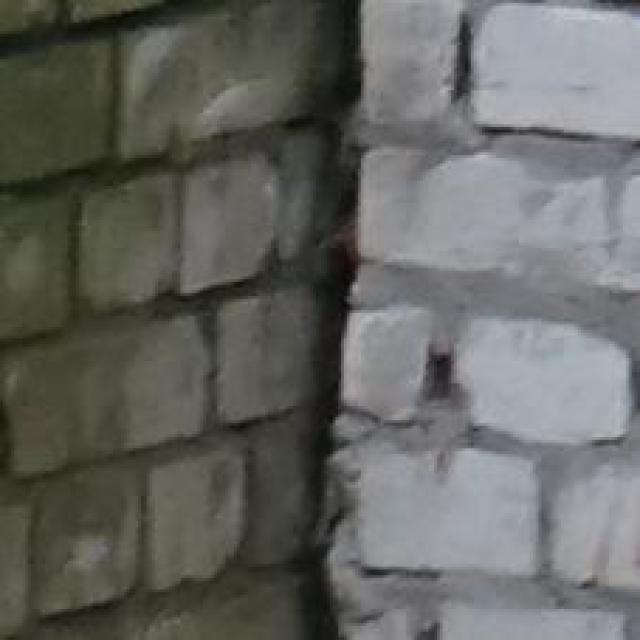Crack: (248, 4, 564, 640)
